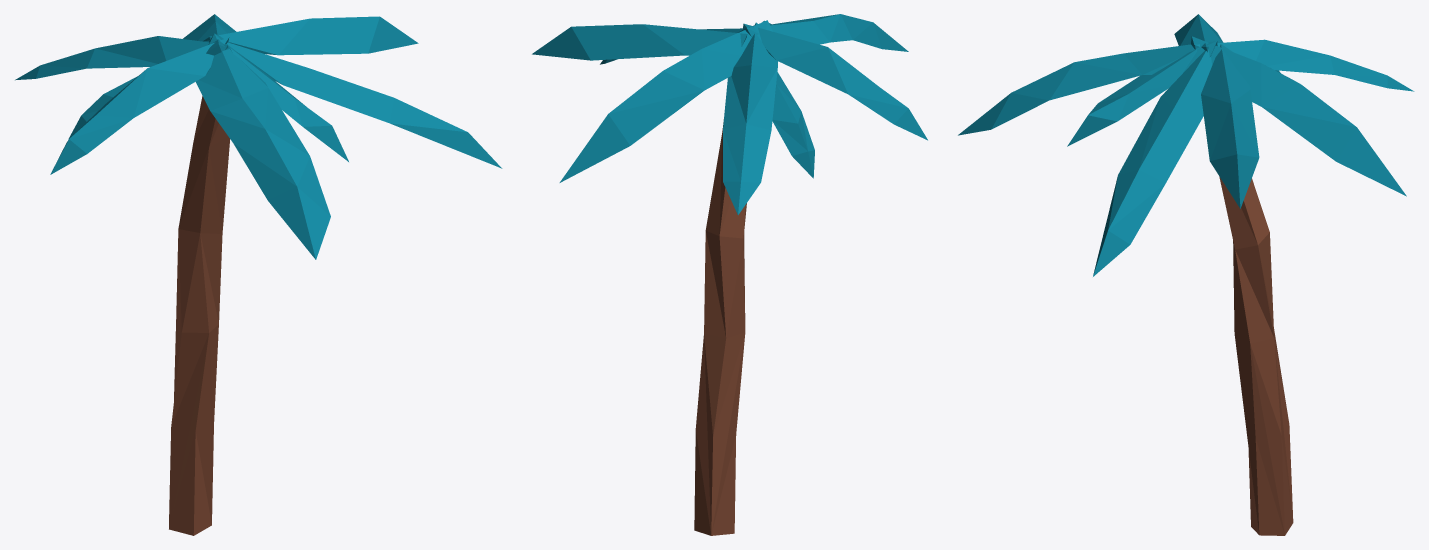
The model's file is Tree_13_summer_blue_mat.fbx.
3 views of the same model, side by side, from view 1: azimuth 30°, elevation 25°; view 2: azimuth 150°, elevation 25°; view 3: azimuth 270°, elevation 25° (orthographic). The views are drawn at different scales.
Parts seen in each view (by area): view 1: Tree_13_summer_blue_mat; view 2: Tree_13_summer_blue_mat; view 3: Tree_13_summer_blue_mat.
Boxes of the visible parts, box(x1,y1,x2,y2) form: Tree_13_summer_blue_mat: box(15, 14, 502, 535); Tree_13_summer_blue_mat: box(532, 14, 927, 535); Tree_13_summer_blue_mat: box(958, 14, 1414, 535).
Bounding box in the file's own units: 189 × 233 × 198.
